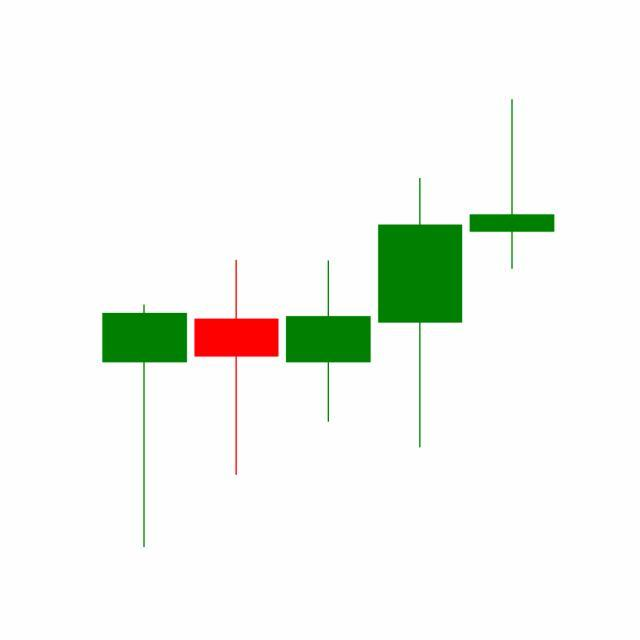Three Outside Up-Down: (190, 175, 467, 480)
